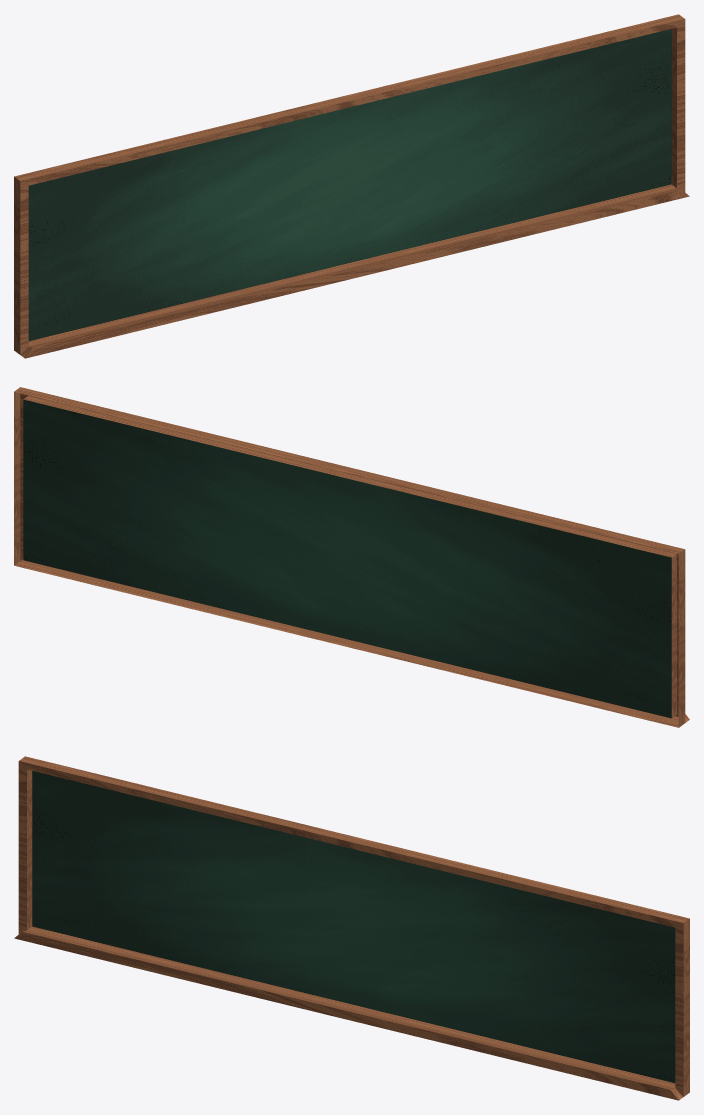
The picture shows the model from 3 angles, top to bottom: view 1: azimuth 30°, elevation 25°; view 2: azimuth 150°, elevation 25°; view 3: azimuth 330°, elevation 25°; orthographic projection.
Visible parts, largest first — view 1: Lousa; view 2: Lousa; view 3: Lousa.
Boxes of the visible parts, left/top/right/bottom form: Lousa: left=14, top=14, right=689, bottom=358; Lousa: left=14, top=387, right=689, bottom=727; Lousa: left=14, top=756, right=689, bottom=1100.
Bounding box in the file's own units: 600 × 150 × 17.48.
Materials: 2 (2 with a texture image).
